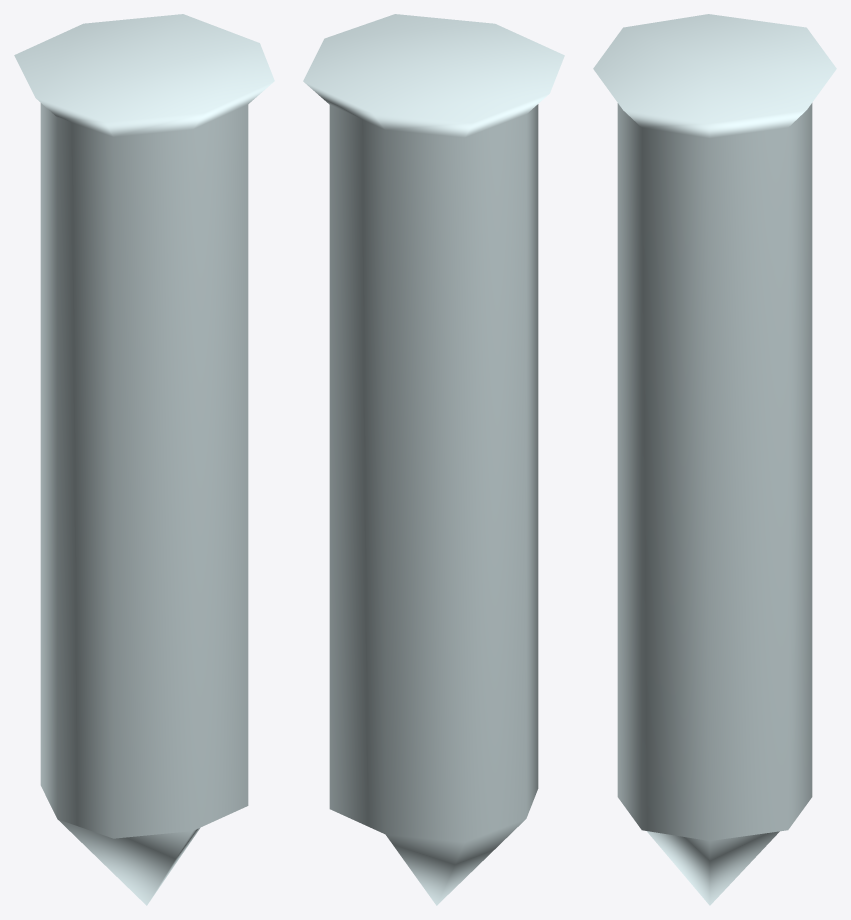
File: Recipiente_4.obj
3 views of the same model, side by side, from view 1: azimuth 30°, elevation 25°; view 2: azimuth 150°, elevation 25°; view 3: azimuth 270°, elevation 25° (orthographic).
Parts seen in each view (by area): view 1: pCube25; view 2: pCube25; view 3: pCube25.
Part boxes in pixels (x1,y1,x2,y2): pCube25: (14,14,274,905); pCube25: (303,14,564,905); pCube25: (593,14,836,905).
Bounding box in the file's own units: 6.31 × 22.44 × 5.92.
